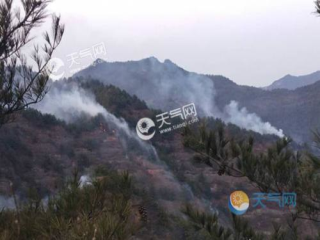fire: (30, 80, 157, 160), (186, 83, 292, 139)
